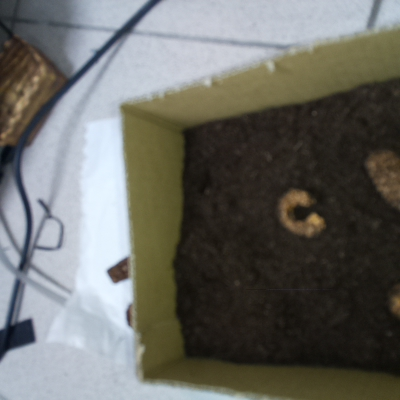eggs: (271, 183, 327, 241), (360, 141, 400, 217), (383, 270, 400, 323)
